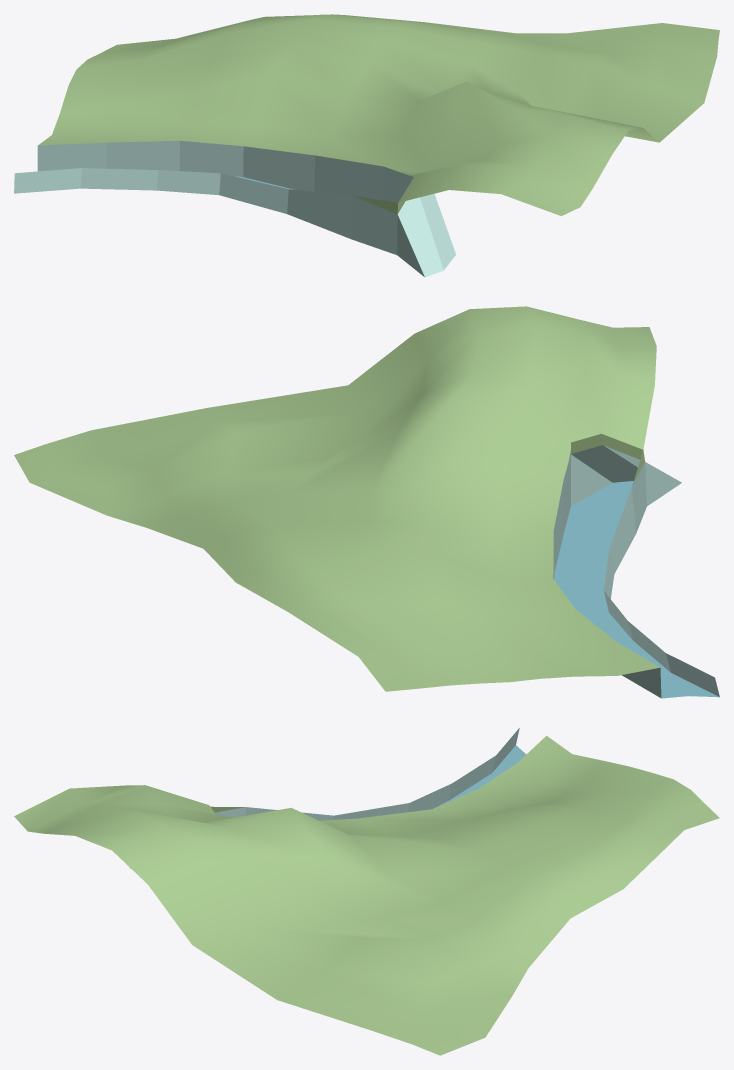
The model's file is level_41.fbx.
3 views of the same model, one above another, from view 1: azimuth 30°, elevation 25°; view 2: azimuth 150°, elevation 25°; view 3: azimuth 270°, elevation 25° (orthographic). The views are drawn at different scales.
Visible parts, largest first — view 1: loc_041; view 2: loc_041; view 3: loc_041.
Boxes of the visible parts, box(x1,y1,x2,y2) form: loc_041: box(14, 14, 719, 277); loc_041: box(14, 306, 719, 698); loc_041: box(14, 728, 719, 1055).
Size of the model in its own units: 61.23 by 9.56 by 53.95.
